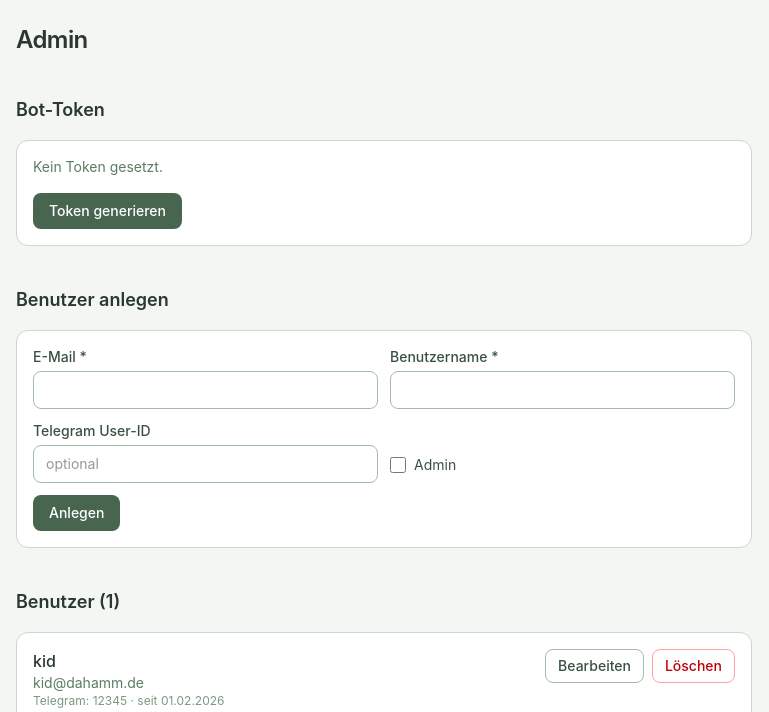
Test: Admin page › reveals the inline edit form for a single user
This screenshot has width=769, height=712.
Click the button "Bearbeiten": [594, 666] box [545,649,644,683]
(page scrolled)
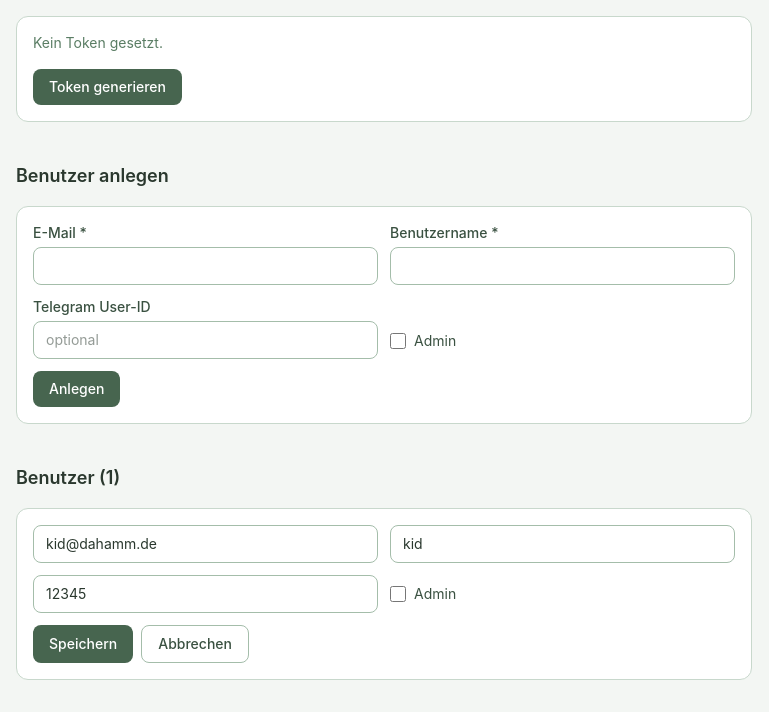
Check: the button "Speichern" is shown, box [33,625,133,663]
Check: the button "Abbrechen" is shown, box [141,625,249,663]
